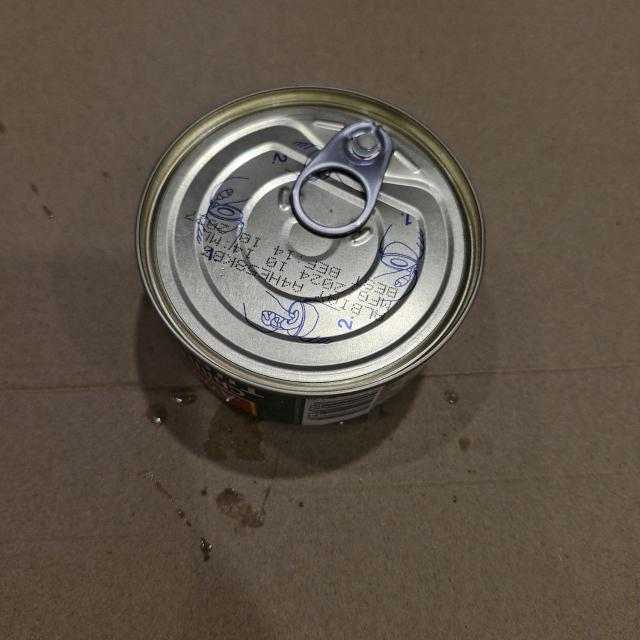metal: (132, 80, 490, 434)
